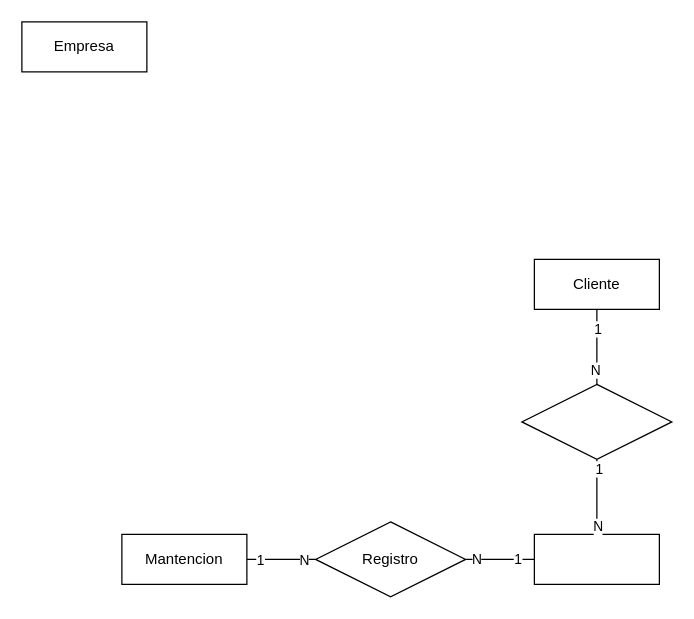
Image size: 694x619. Some labels were removed from this diagram. The centre of each missing label's shape, as x and y in pixels:
Vehiculo: point 596,558
Venta: point 596,421
